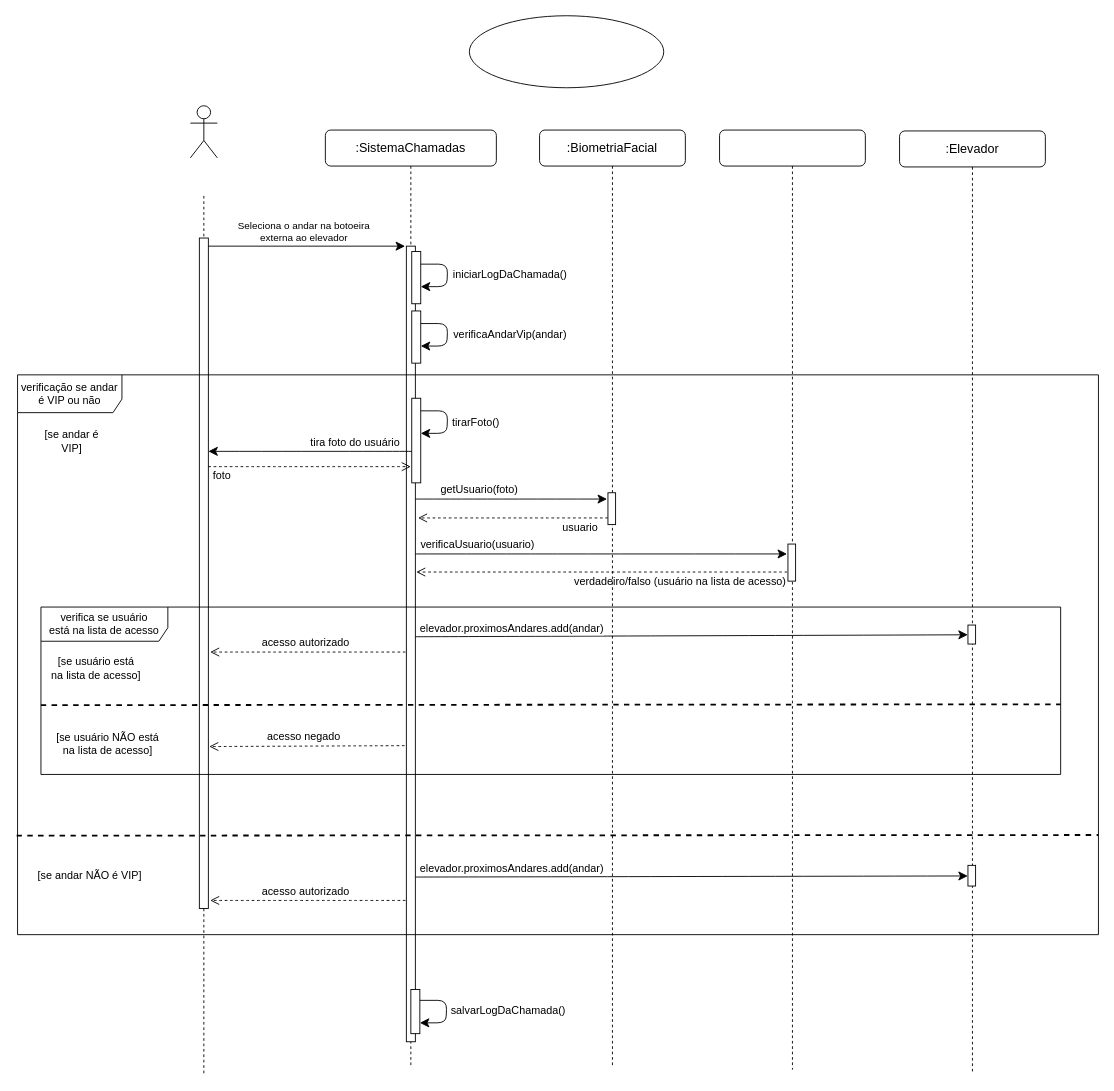
Some shapes in this 1114 by 1091 pixel diagram are drawn without their labels. The centre of each missing label's shape, as x and y in pixels:
:AndarVIP: pixel 792 599
UC-10 Chamar Elevador: pixel 566 51
Usuário (Todos): pixel 203 131
